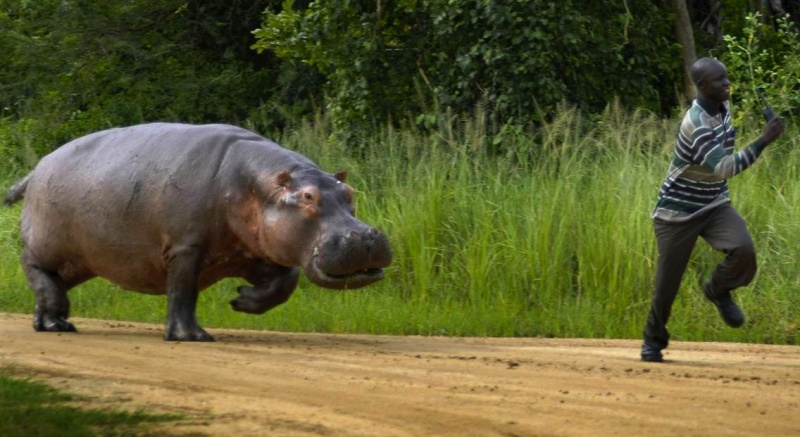hipopotamo: (11, 118, 394, 349)
